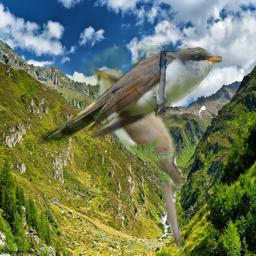Cuckoo: (85, 63, 188, 256), (34, 45, 222, 144)
